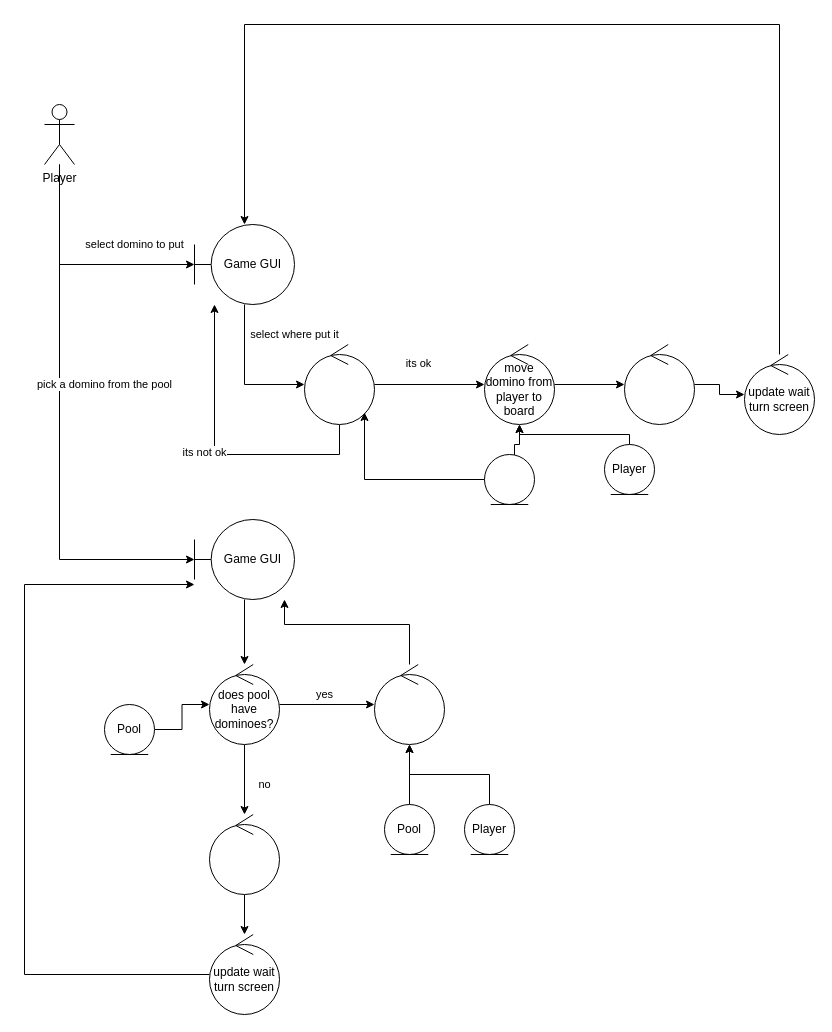
Some shapes in this 832 by 1032 pixel diagram are drawn without their labels. Each missing label, with the box of its shape:
Board: (484, 454, 534, 504)
change turn: (624, 344, 694, 424)
give dominoe to player: (374, 664, 444, 744)
pass turn: (208, 814, 280, 894)
validate the domino´s number: (304, 344, 374, 424)
